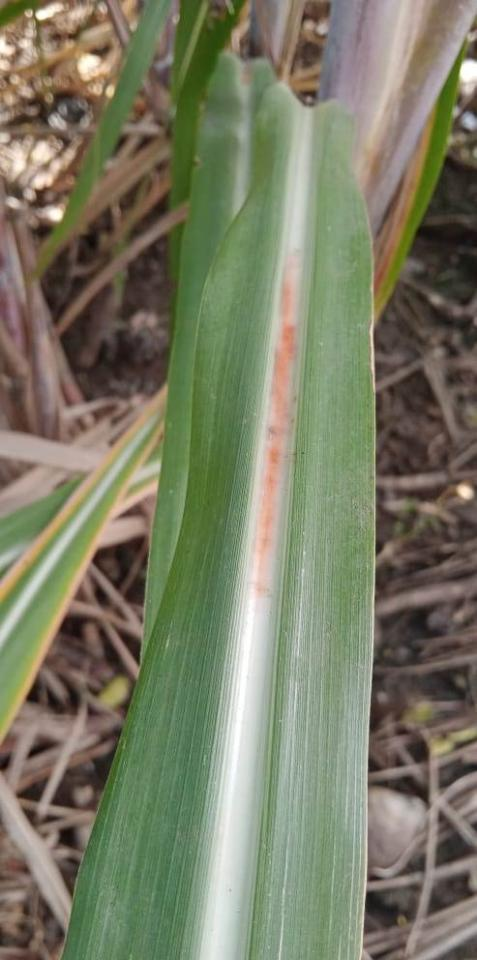RedRot: (250, 245, 302, 600)
